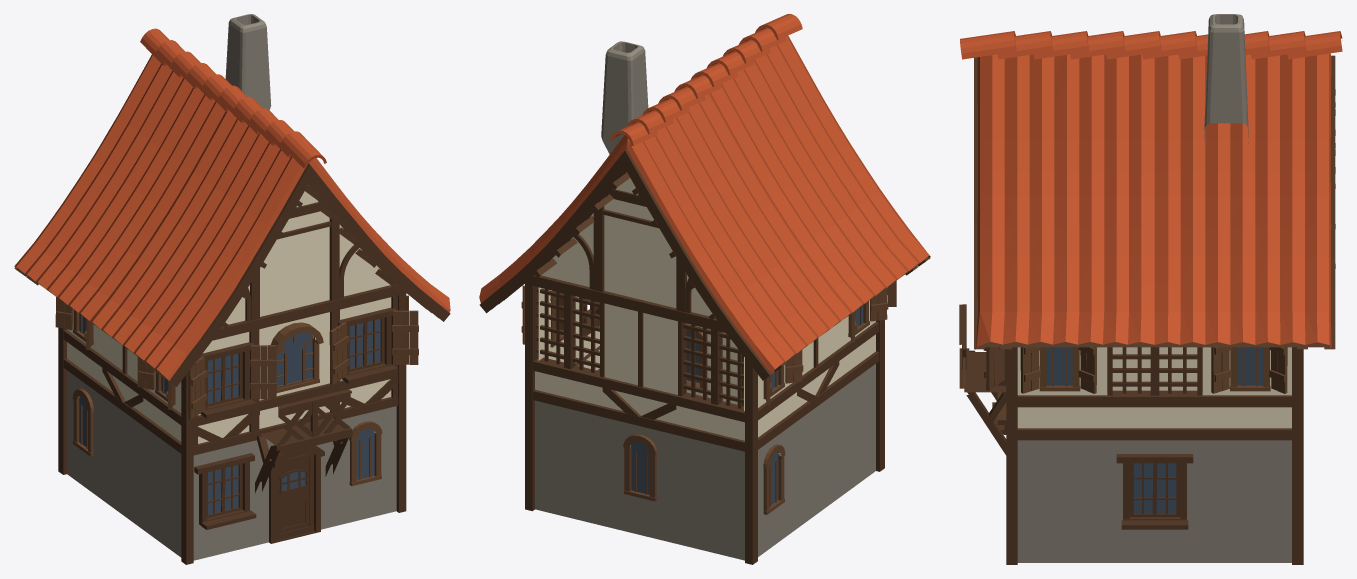
The model's file is house_stone.obj.
3 renders of one model, left to right at view 1: azimuth 30°, elevation 25°; view 2: azimuth 150°, elevation 25°; view 3: azimuth 270°, elevation 25°, orthographic. The views are drawn at different scales.
Size of the model in its own units: 8.25 by 11.8 by 8.04.
